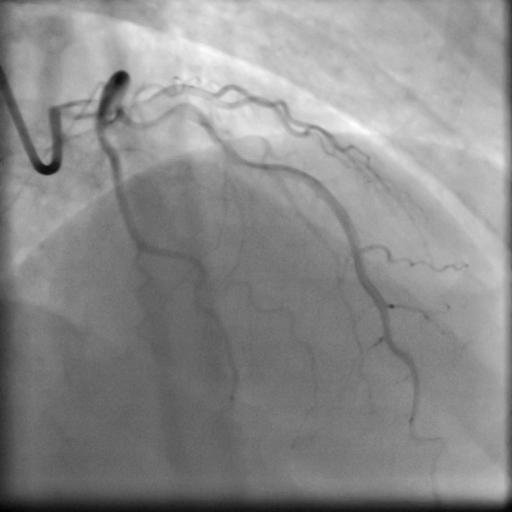Stenosis: (150, 100, 199, 116)
